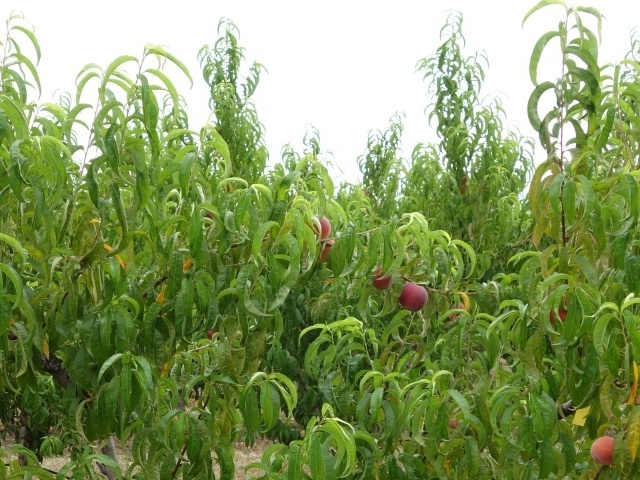peach: (395, 274, 431, 315), (587, 432, 622, 470), (367, 261, 397, 293), (545, 293, 571, 329), (307, 210, 333, 245), (315, 234, 339, 266)
